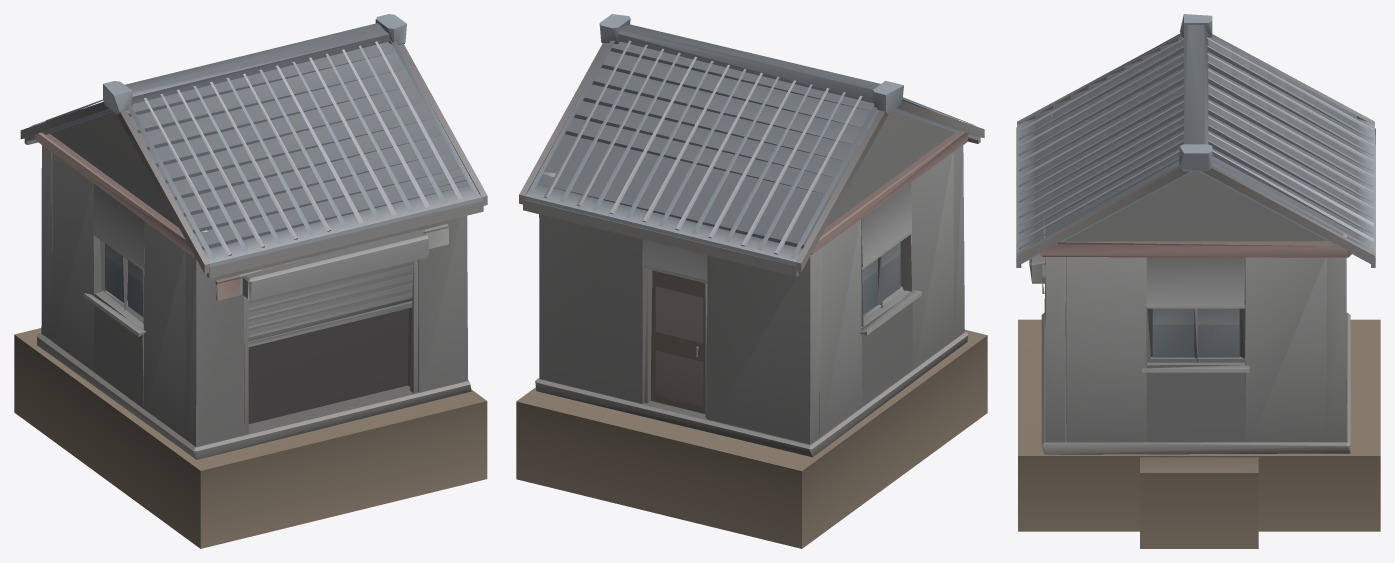
File: kiosk.lod1.glb
The picture shows the model from 3 angles, left to right: view 1: azimuth 30°, elevation 25°; view 2: azimuth 150°, elevation 25°; view 3: azimuth 270°, elevation 25°; orthographic projection. The views are drawn at different scales.
Size of the model in its own units: 4.48 by 5.17 by 4.48.
